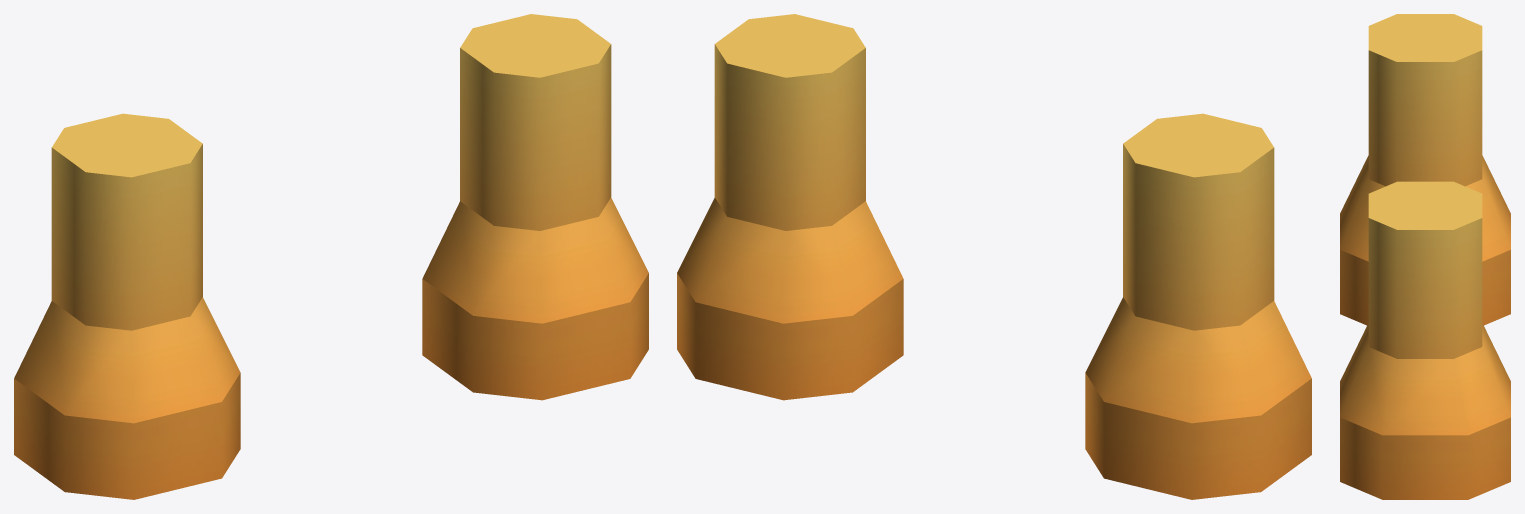
File: support-color-two-bottom.glb
3 views of the same model, side by side, from view 1: azimuth 30°, elevation 25°; view 2: azimuth 150°, elevation 25°; view 3: azimuth 270°, elevation 25° (orthographic). The views are drawn at different scales.
Parts seen in each view (by area): view 1: support-color-two-bottom; view 2: support-color-two-bottom; view 3: support-color-two-bottom.
Part boxes in pixels (x1=…): support-color-two-bottom: x1=14, y1=14, x2=648, y2=499; support-color-two-bottom: x1=677, y1=14, x2=1311, y2=499; support-color-two-bottom: x1=1340, y1=14, x2=1510, y2=499.
Bounding box in the file's own units: 0.9969 × 0.5 × 0.3.
Materials: 1 (1 with a texture image).
